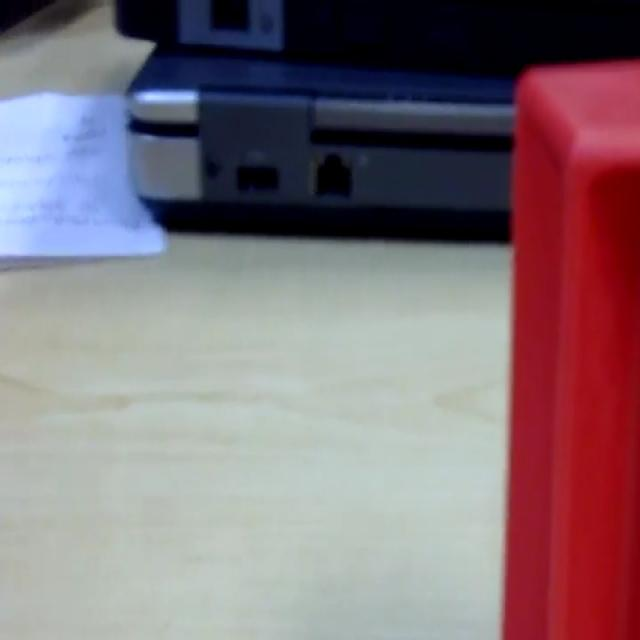red_block: (501, 56, 639, 636)
